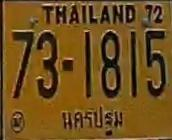1: (84, 31, 92, 99), (130, 31, 137, 98)
3: (35, 31, 58, 98)
5: (142, 27, 168, 97)
7: (12, 31, 34, 97)
8: (100, 30, 120, 98)
NPT: (59, 105, 126, 138)
